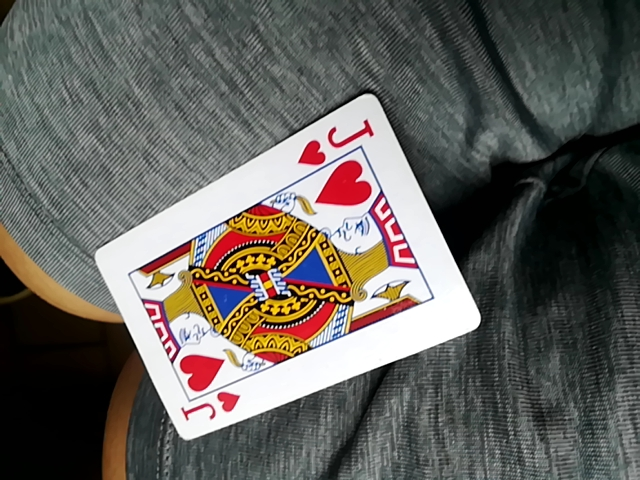hx j: (98, 94, 481, 442)
